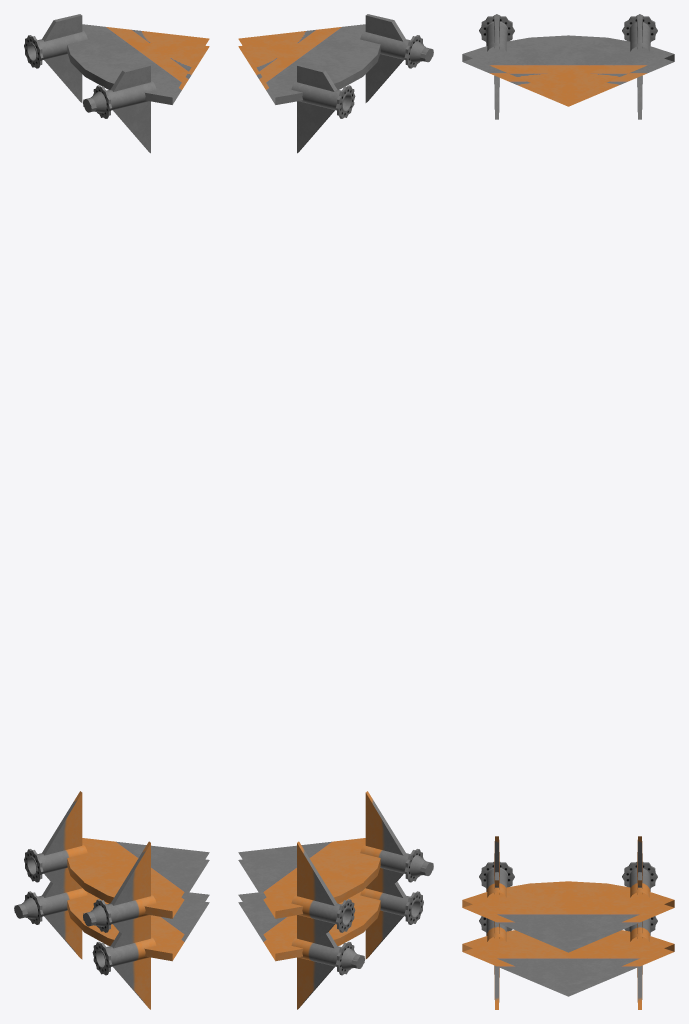
Rendered from ksprocket.fbx.
The picture shows the model from 3 angles, left to right: view 1: azimuth 30°, elevation 25°; view 2: azimuth 150°, elevation 25°; view 3: azimuth 270°, elevation 25°; orthographic projection. The views are drawn at different scales.
Visible parts, largest first — view 1: Cylinder.001; view 2: Cylinder.001; view 3: Cylinder.001.
Boxes of the visible parts, x1,y1,x2,y2 form: Cylinder.001: (14,14,209,1009); Cylinder.001: (238,14,433,1009); Cylinder.001: (462,14,674,1009).
Bounding box in the file's own units: 527 × 3030 × 594.
